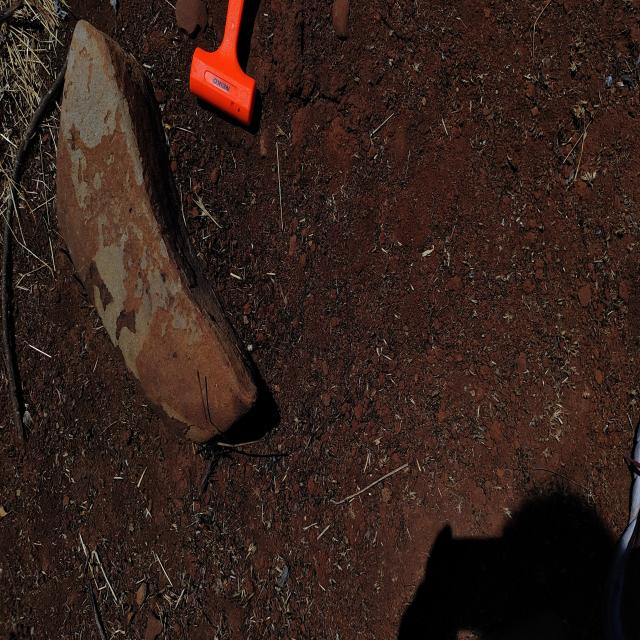Orange_hammer: (188, 0, 257, 127)
